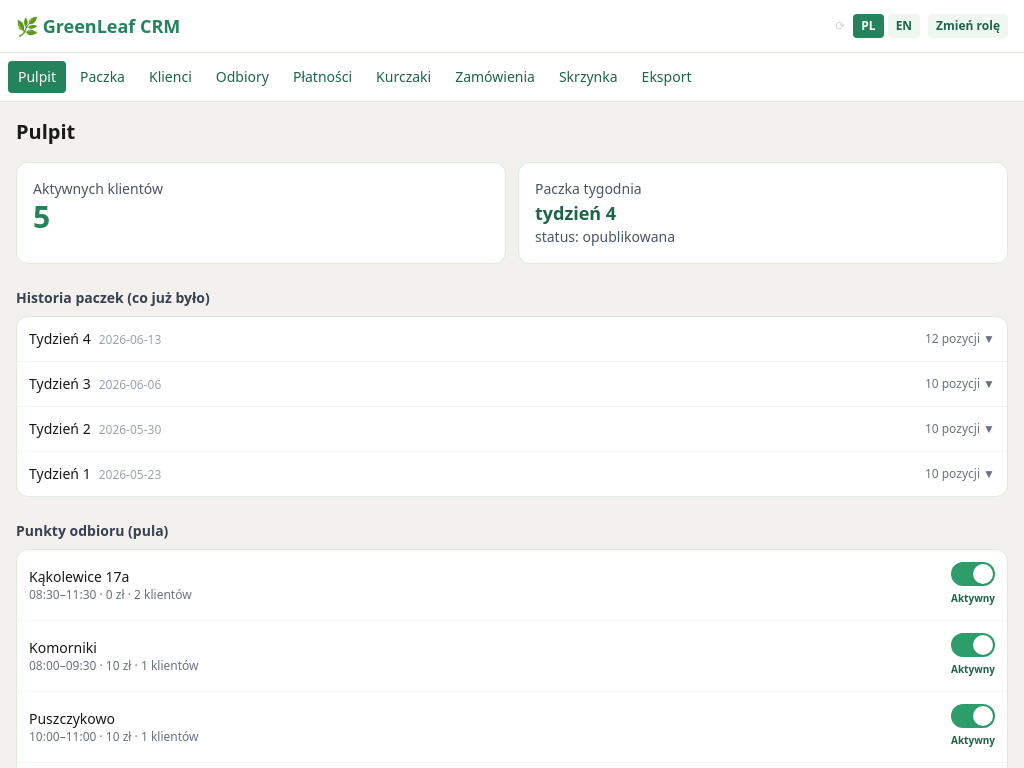
PackageBuilder — sekcja "Paczka tygodnia" w AdminShell › dodanie produktu zwiększa draft, a publikacja pokazuje potwierdzenie
Click the button "Paczka".
click(102, 77)  # box [70,61,135,93]
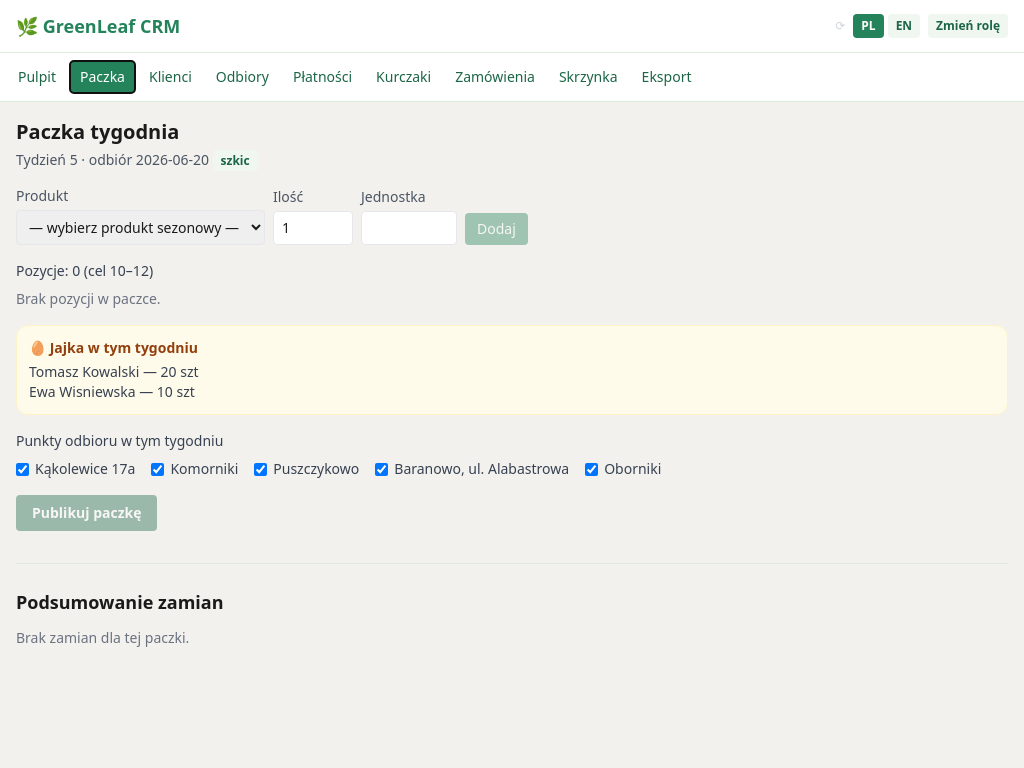
Select "Sałata masłowa" in the dropdown labelled "Produkt" at (140, 228), box [16,210,265,245]
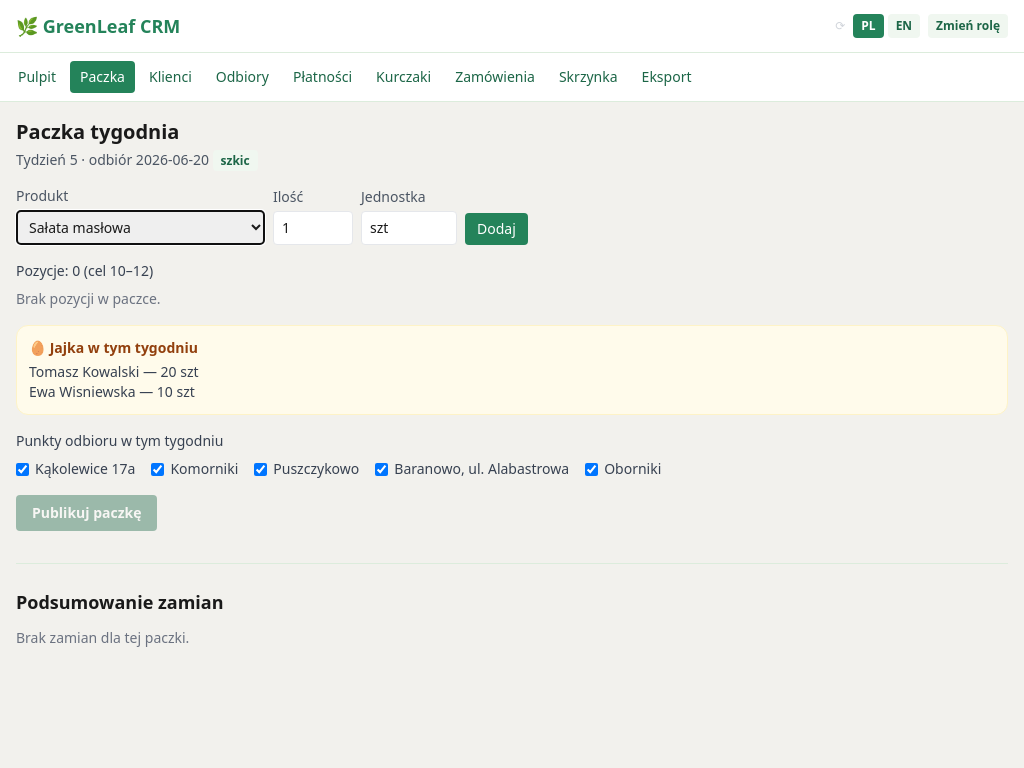
Click the button "Dodaj".
click(496, 229)  # box [465,213,528,245]
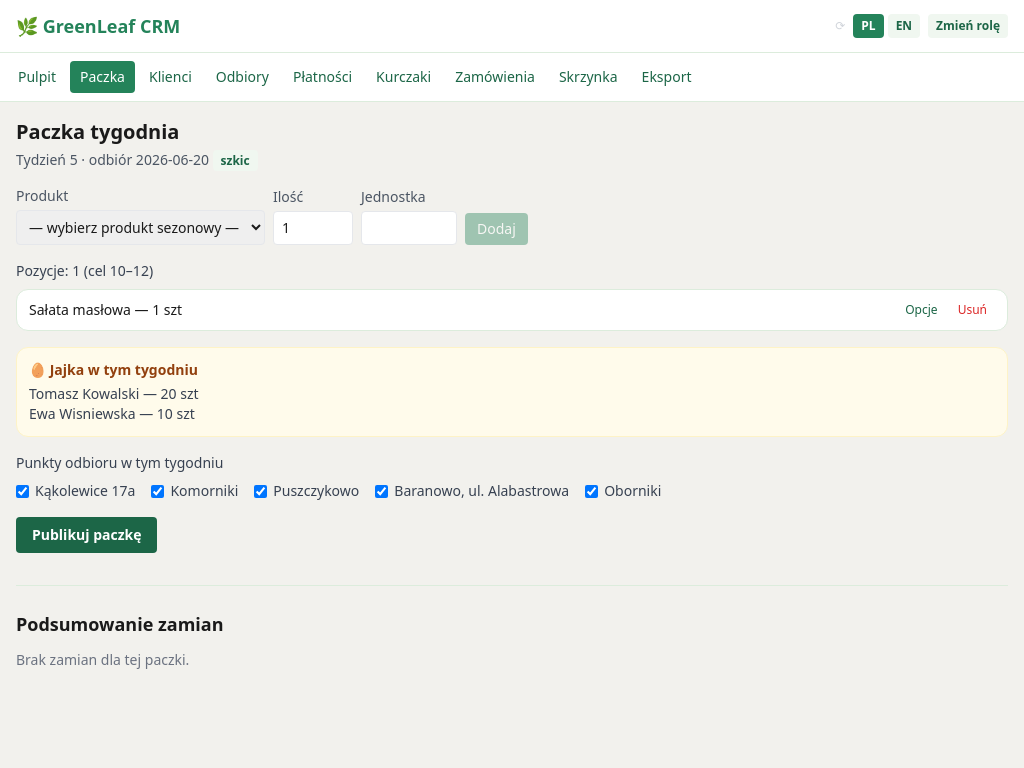
Check: the text "Sałata masłowa — 1 szt" is shown, box [29,300,182,320]
Click the button "Publikuj paczkę".
click(87, 535)  # box [16,517,158,553]
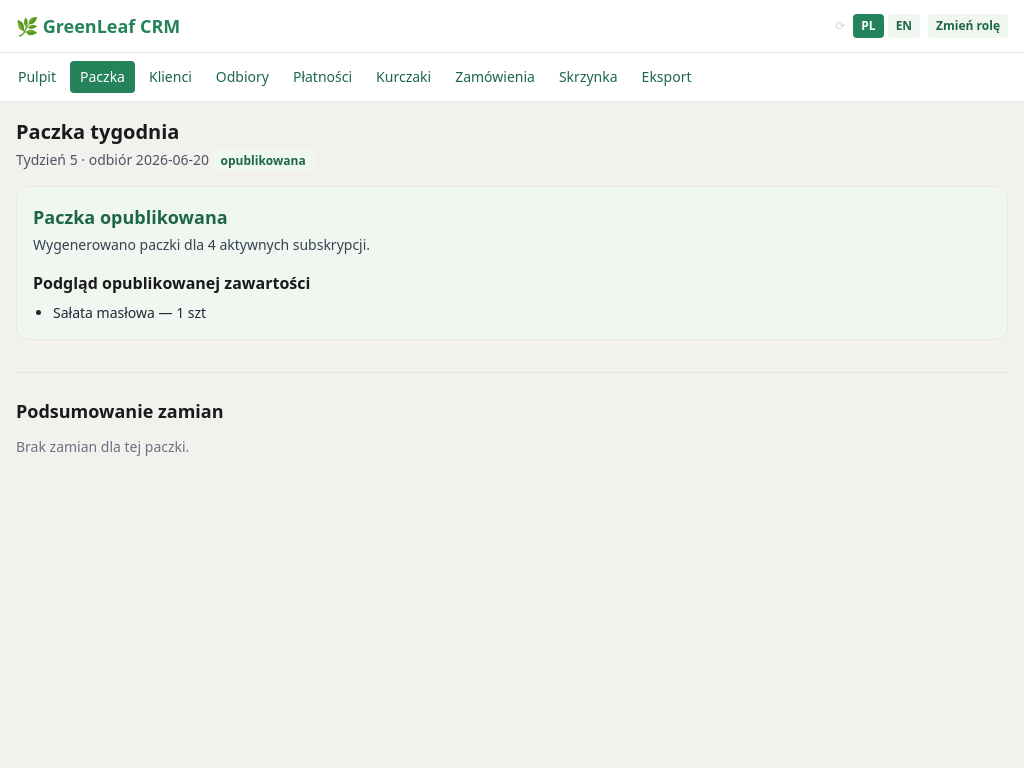
Check: the heading "Paczka opublikowana" is shown, box [33,205,228,229]
Check: the text "Wygenerowano paczki dla 4 aktywnych subskrypcji." is shown, box [33,235,370,254]
